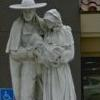Statue: (7, 3, 78, 100)
